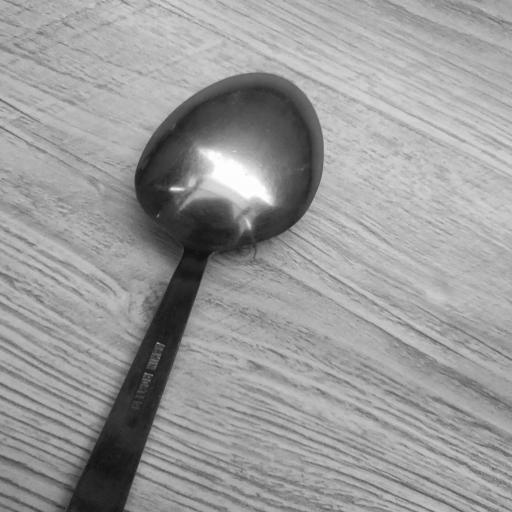spoon: (65, 71, 327, 512)
